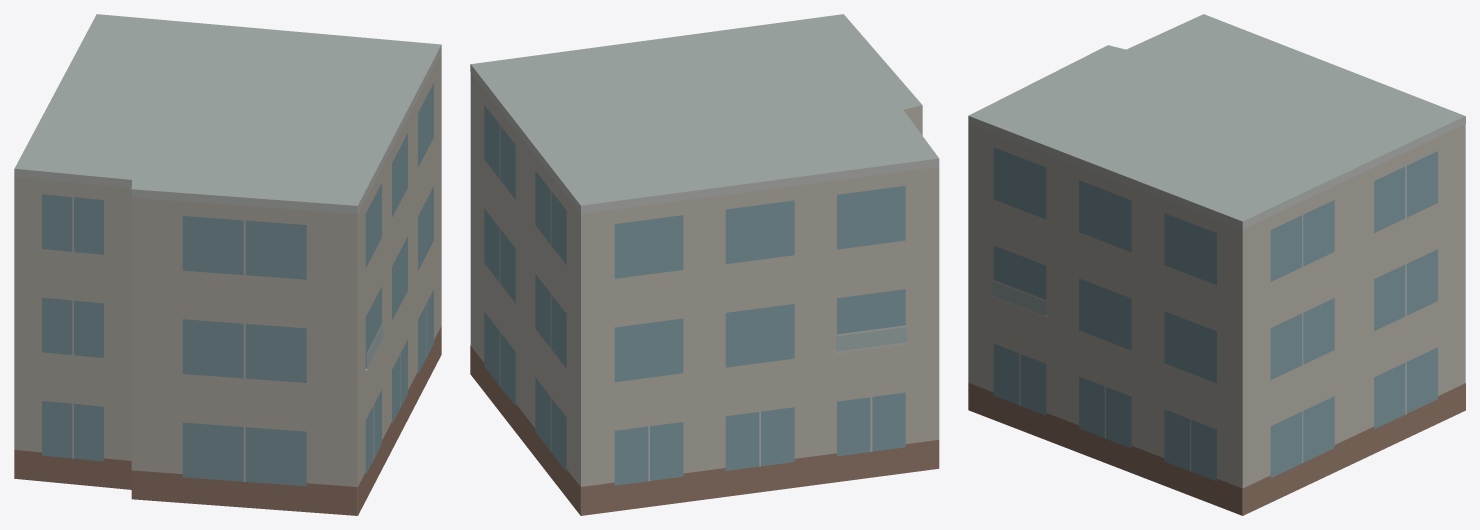
The model's file is survey-upis-32785937.glb.
The picture shows the model from 3 angles, left to right: view 1: azimuth 30°, elevation 25°; view 2: azimuth 150°, elevation 25°; view 3: azimuth 270°, elevation 25°; orthographic projection. The views are drawn at different scales.
Visible parts, largest first — view 1: survey-upis-32785937.tmp; view 2: survey-upis-32785937.tmp; view 3: survey-upis-32785937.tmp.
Boxes of the visible parts, bbox=[...] form: survey-upis-32785937.tmp: bbox=[14, 14, 441, 515]; survey-upis-32785937.tmp: bbox=[470, 14, 939, 515]; survey-upis-32785937.tmp: bbox=[968, 14, 1465, 515].
Size of the model in its own units: 13.84 by 9.15 by 14.02.
